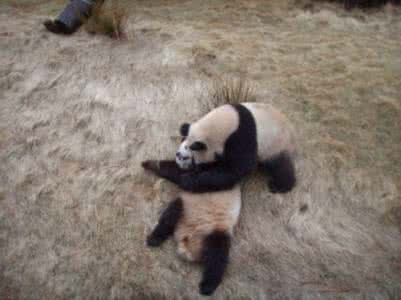panda: (139, 137, 240, 296), (174, 101, 299, 194)
